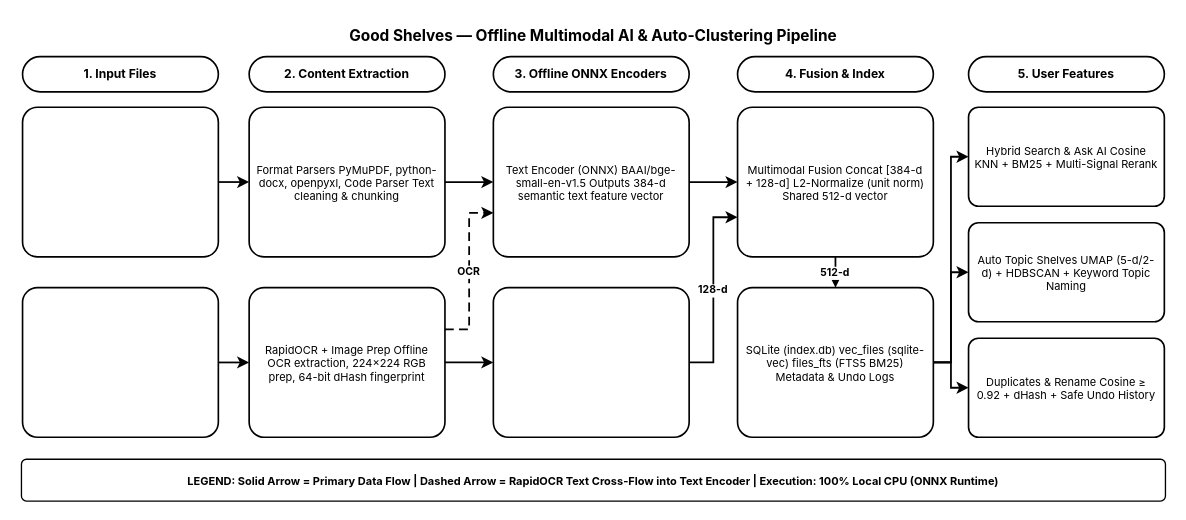
The diagram is 1186 pixels wide and 520 high, and some of its shapes have lost their labels. The shapes that lost their labels are listed below. From the top down, each one's centre as x and y in pixels, then its label:
the point at 120,181: Documents & Code PDF, DOCX, XLSX, PPTX, TXT & Source Code SHA-256 + mtime check
the point at 120,362: Images & Scans PNG, JPG, WebP Receipts, Photos, Screenshots & Scans
the point at 590,362: Vision Encoder (ONNX) SigLIP Base 224 / CLIP Compressed 128-d visual features
